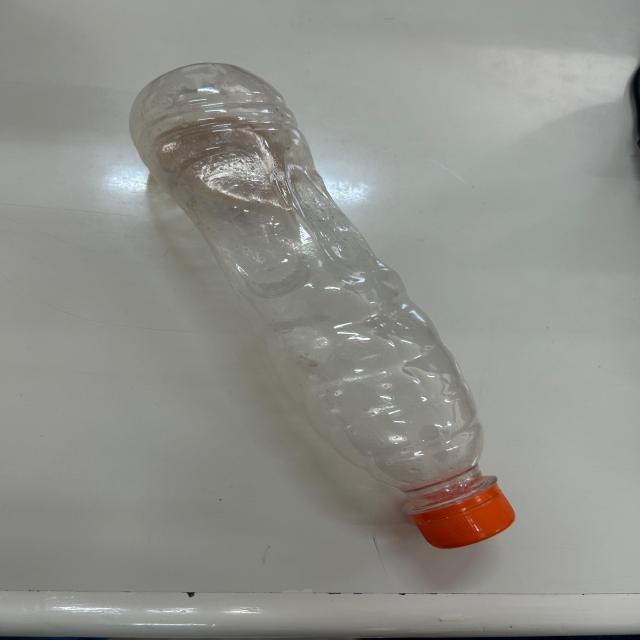inorganic: (130, 61, 516, 550)
